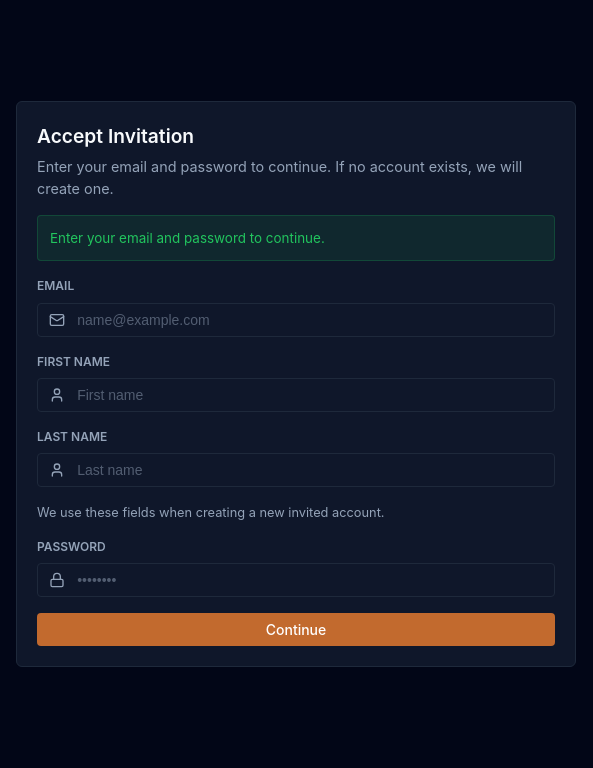
Test: AcceptInvitation › shows error on resend failure
Type "invitee@example.com" into the field labelled "Email" at (296, 320), box [37,303,555,337]
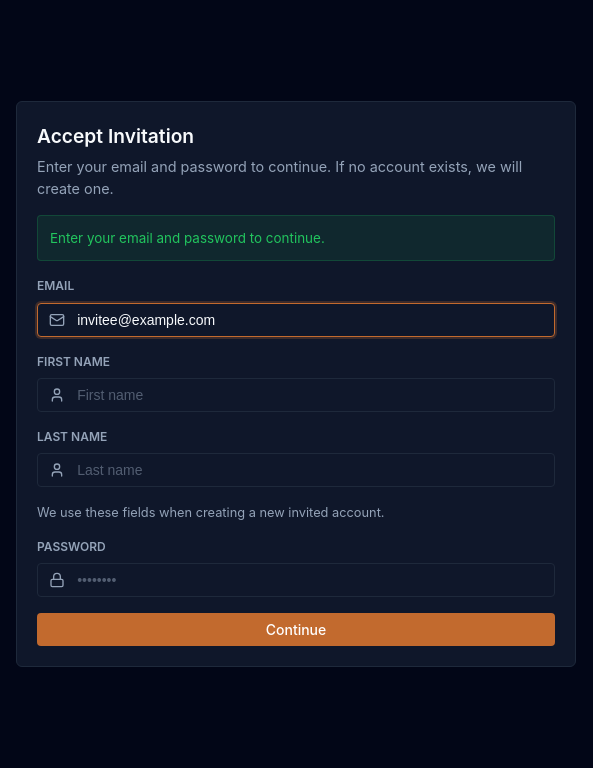
Type "Invitee" into the field labelled "First Name" at (296, 395), box [37,378,555,412]
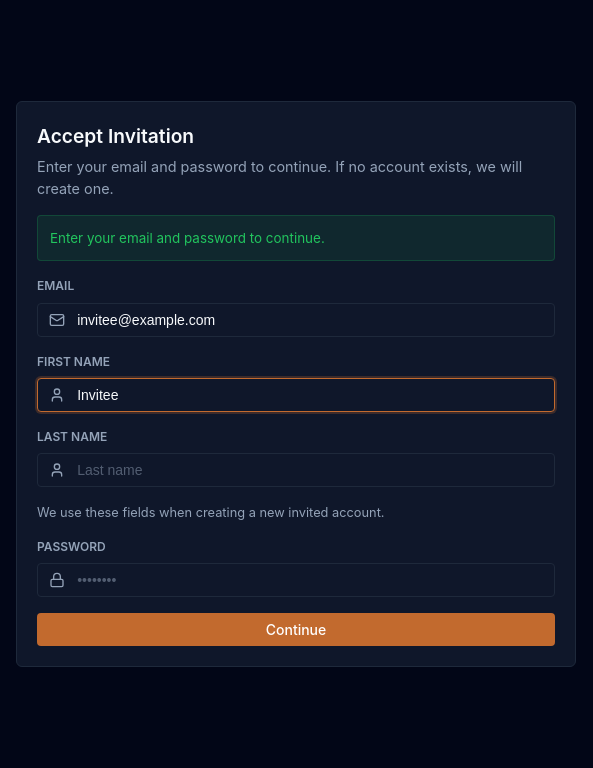
Type "Test" into the field labelled "Last Name" at (296, 470), box [37,453,555,487]
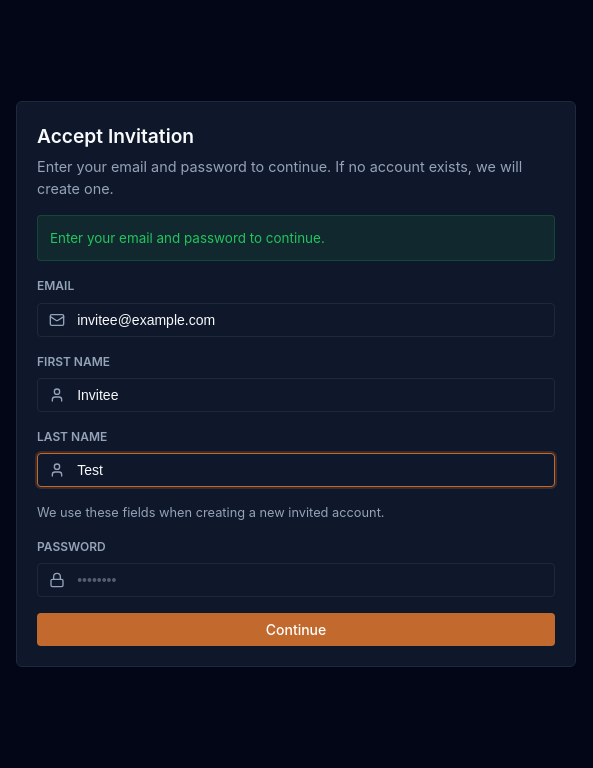
Type "TestPass123!" into the password field labelled "Password" at (296, 580), box [37,563,555,597]
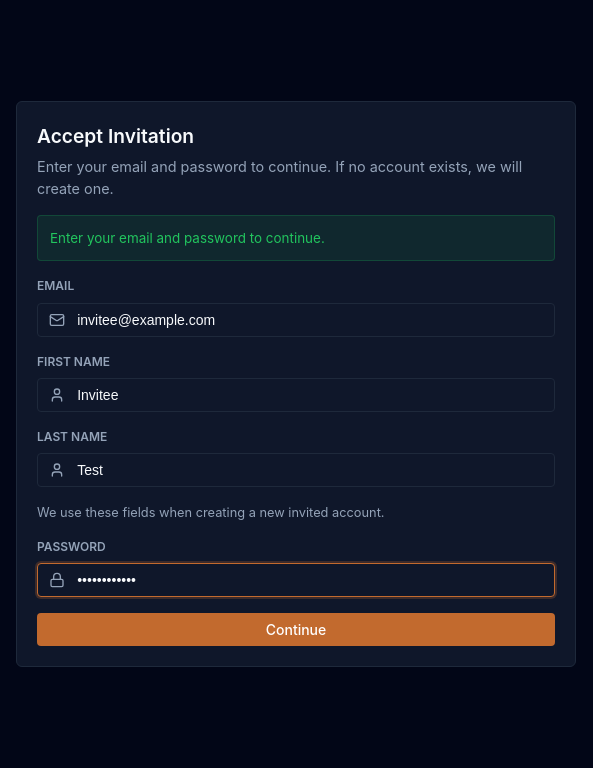
Click the button "Continue" at (296, 630), box [37,613,555,646]
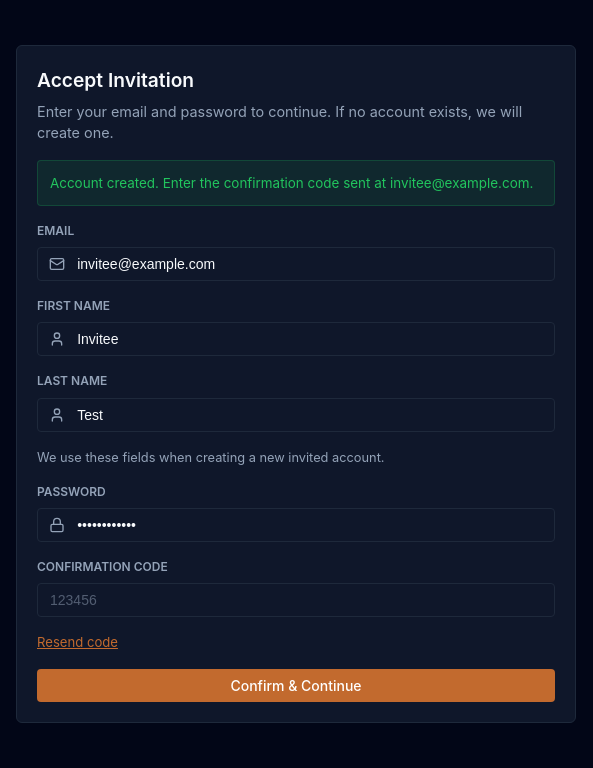
Expected: the button "Resend code" is shown
Click the button "Resend code" at (77, 642), box [37,634,118,650]
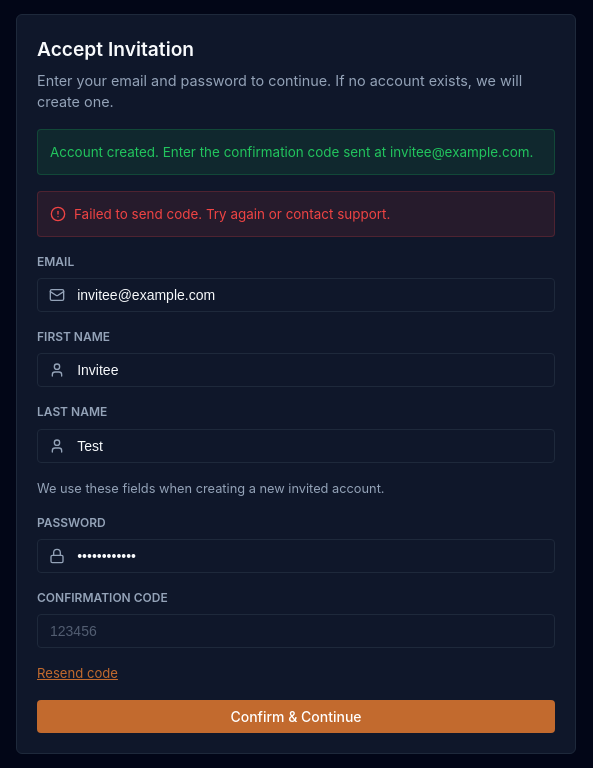
Expected: the text "Failed to send code. Try again or contact support." is shown, [74,204,390,224]
